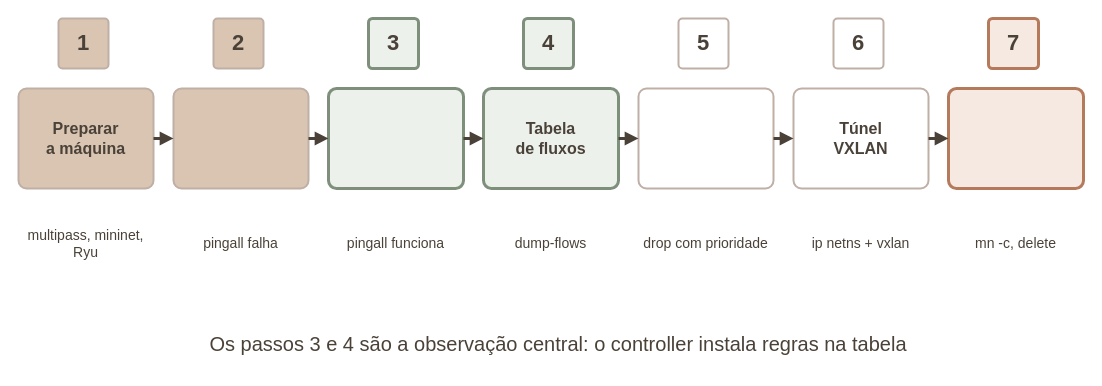
The diagram is 1102 pixels wide and 386 high, and some of its shapes have lost their labels. Here are the shapes that lost their labels. From the top down, the box of each, then its label:
(172, 87, 309, 189): Rede sem controller
(326, 86, 464, 190): Controller Ryu
(637, 87, 774, 189): Política de bloqueio
(946, 86, 1084, 190): Limpeza
